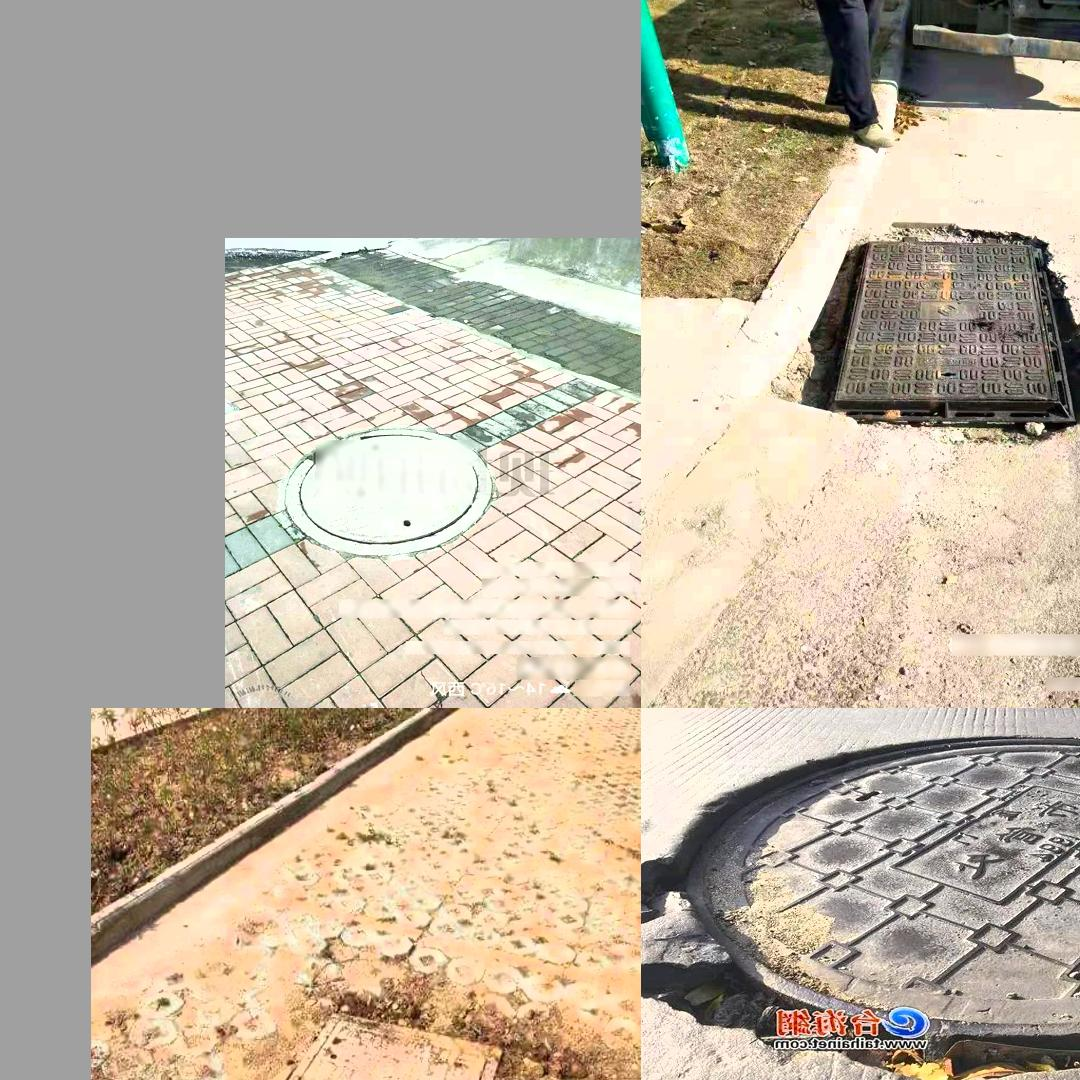circle: (655, 733, 1080, 1080), (796, 231, 1080, 438), (281, 428, 496, 560), (191, 1006, 527, 1080)
